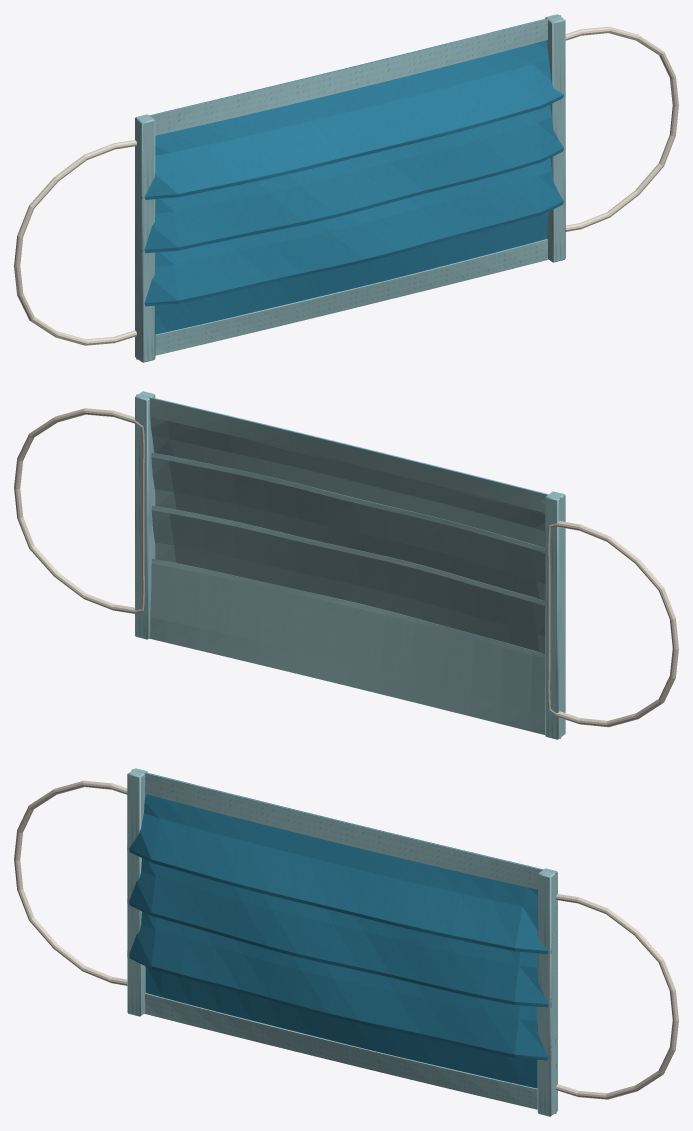
File: pleated_face_mask_LOD2.glb
3 views of the same model, one above another, from view 1: azimuth 30°, elevation 25°; view 2: azimuth 150°, elevation 25°; view 3: azimuth 330°, elevation 25° (orthographic).
Parts seen in each view (by area): view 1: Pleated_panel, Top_nose_band, Bottom_hem, Left_side_weld, Right_side_weld, Left_ear_loop, Right_ear_loop; view 2: Pleated_panel, Left_side_weld, Right_side_weld, Left_ear_loop, Right_ear_loop, Top_nose_band; view 3: Pleated_panel, Top_nose_band, Bottom_hem, Right_side_weld, Left_side_weld, Right_ear_loop, Left_ear_loop.
Part boxes in pixels (x1,y1,x2,y2): Pleated_panel: (136,15,565,358); Top_nose_band: (136,15,561,139); Bottom_hem: (136,239,548,359); Left_side_weld: (135,114,155,362); Right_side_weld: (545,14,565,262); Left_ear_loop: (14,140,136,345); Right_ear_loop: (565,26,678,231); Pleated_panel: (136,394,560,738); Left_side_weld: (545,491,565,739); Right_side_weld: (135,391,155,639); Left_ear_loop: (547,521,678,727); Right_ear_loop: (14,408,144,613); Top_nose_band: (137,394,561,517); Pleated_panel: (127,772,556,1112); Top_nose_band: (131,769,556,893); Bottom_hem: (144,993,556,1113); Right_side_weld: (537,868,557,1116); Left_side_weld: (127,768,147,1016); Right_ear_loop: (556,894,678,1099); Left_ear_loop: (14,780,127,985).
Bounding box in the file's own units: 0.2742 × 0.0951 × 0.0146.
Materials: 4 (4 with a texture image).
